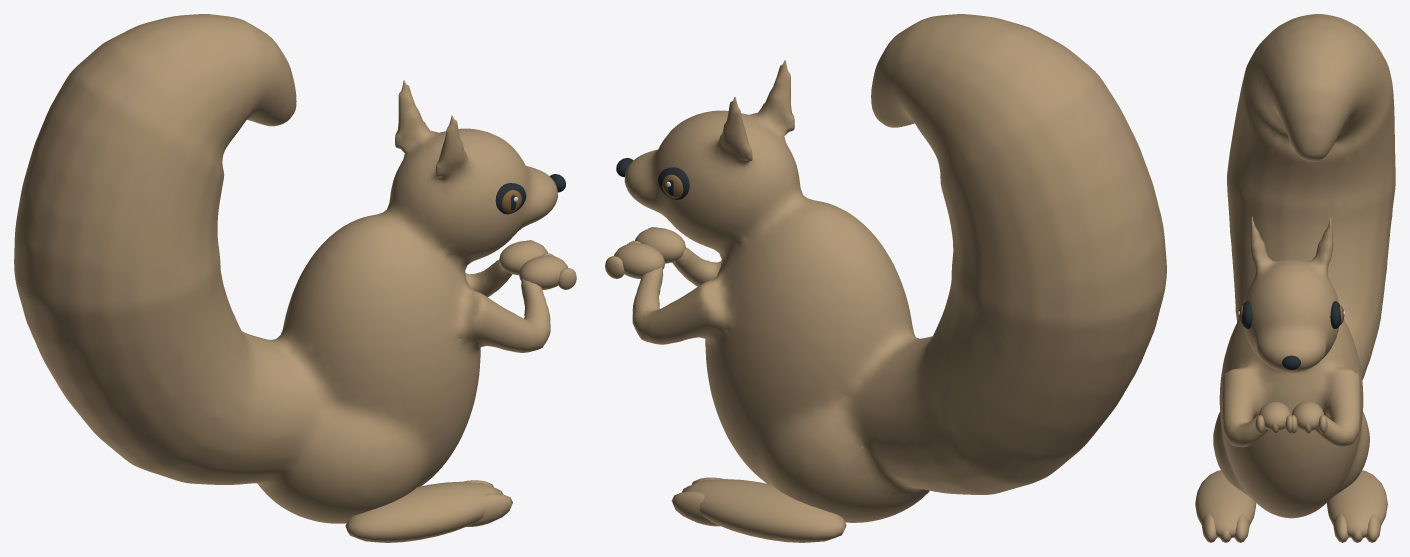
File: nature-squirrel.glb
The picture shows the model from 3 angles, left to right: view 1: azimuth 30°, elevation 25°; view 2: azimuth 150°, elevation 25°; view 3: azimuth 270°, elevation 25°; orthographic projection. The views are drawn at different scales.
Parts seen in each view (by area): view 1: Continuous anatomical skin, Rounded paw.001, Rounded paw, Rounded paw.002, Toe.003; view 2: Continuous anatomical skin, Rounded paw.003, Rounded paw.002, Rounded paw, Toe.011; view 3: Continuous anatomical skin, Rounded paw.003, Rounded paw.001, Rounded paw.002, Rounded paw, Toe.005, Toe.009, Toe.011, Toe.003, Dark eye socket.
Boxes of the visible parts, x1,y1,x2,y2 form: Continuous anatomical skin: (14,14,557,523); Rounded paw.001: (345,481,500,542); Rounded paw: (519,255,567,289); Rounded paw.002: (499,241,547,275); Toe.003: (466,493,512,526); Continuous anatomical skin: (624,14,1166,522); Rounded paw.003: (684,479,846,542); Rounded paw.002: (614,243,664,278); Rounded paw: (635,227,685,263); Toe.011: (671,491,720,526); Continuous anatomical skin: (1213,14,1395,518); Rounded paw.003: (1326,470,1387,537); Rounded paw.001: (1195,470,1256,537); Rounded paw.002: (1291,401,1324,430); Rounded paw: (1259,401,1291,430); Toe.005: (1234,514,1249,542); Toe.009: (1333,514,1348,542); Toe.011: (1366,514,1381,542); Toe.003: (1202,514,1217,542); Dark eye socket: (1242,301,1252,328).
Size of the model in its own units: 0.3415 by 0.32 by 0.1387.
Materials: 4 (4 with a texture image).
